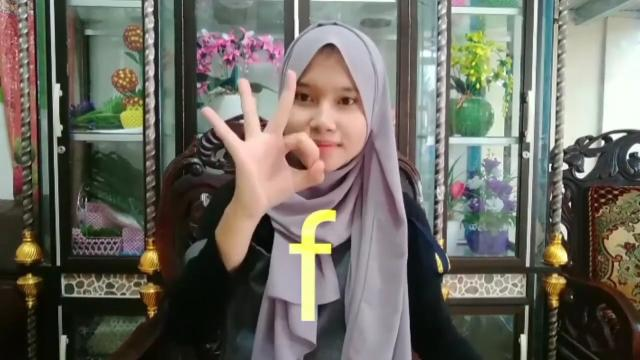F: (202, 68, 326, 200)
